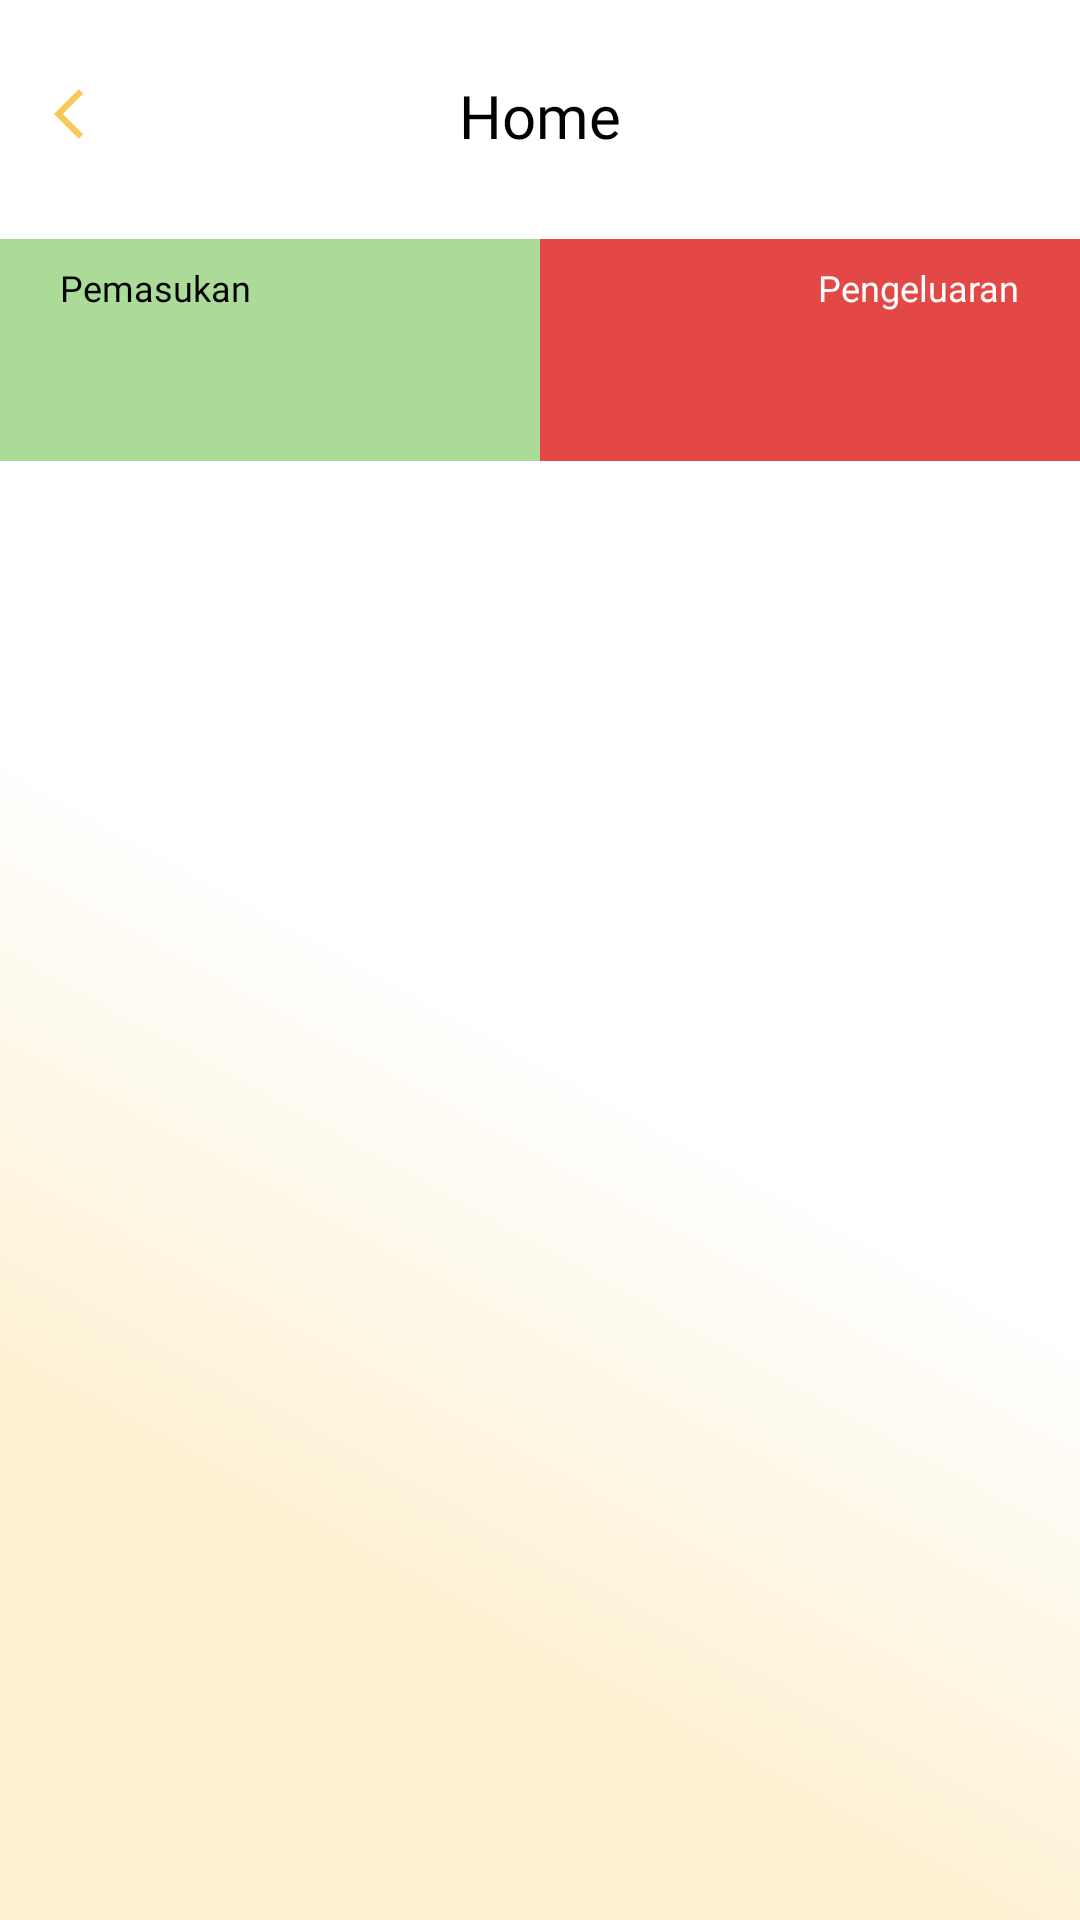

Icon bounding boxes for this 1080 x 1920 phone screenshot, format (x1, y1, x2, y2):
back: (54, 89, 83, 139)
